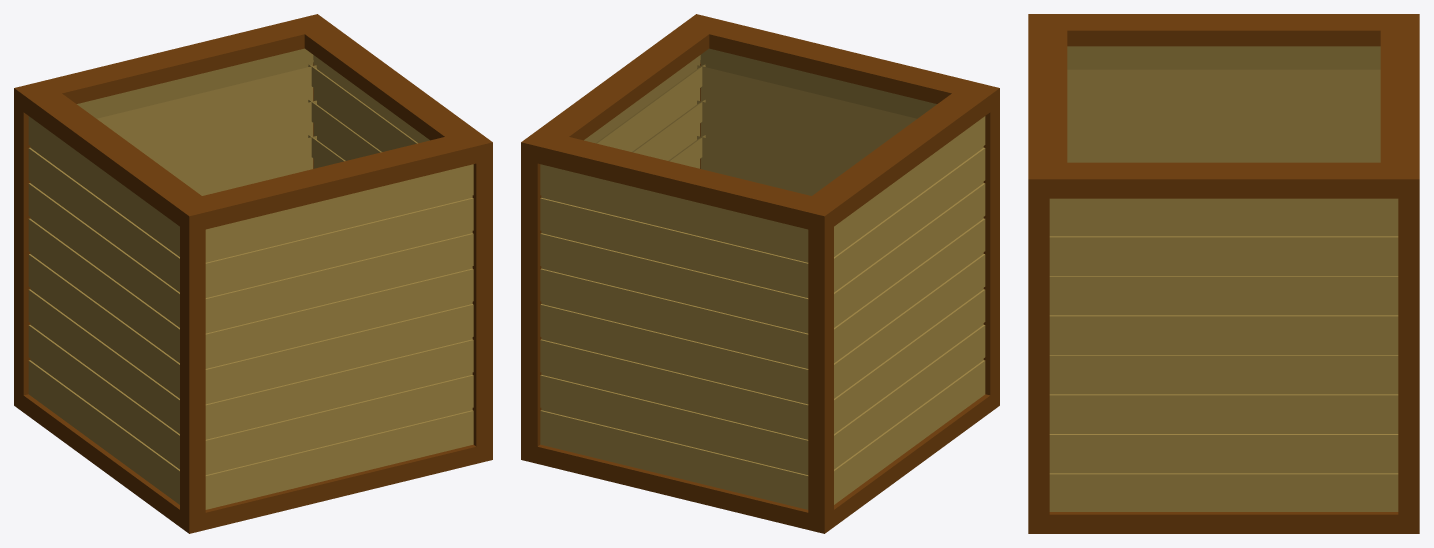
The model's file is Wooden.Crate.Open.fbx.
The picture shows the model from 3 angles, left to right: view 1: azimuth 30°, elevation 25°; view 2: azimuth 150°, elevation 25°; view 3: azimuth 270°, elevation 25°; orthographic projection. The views are drawn at different scales.
Parts seen in each view (by area): view 1: Wooden.Crate.Closed; view 2: Wooden.Crate.Closed; view 3: Wooden.Crate.Closed.
Part boxes in pixels (left/top/right/bottom): Wooden.Crate.Closed: left=14, top=14, right=492, bottom=533; Wooden.Crate.Closed: left=521, top=14, right=999, bottom=533; Wooden.Crate.Closed: left=1028, top=14, right=1419, bottom=533.
Size of the model in its own units: 90 by 90 by 90.
